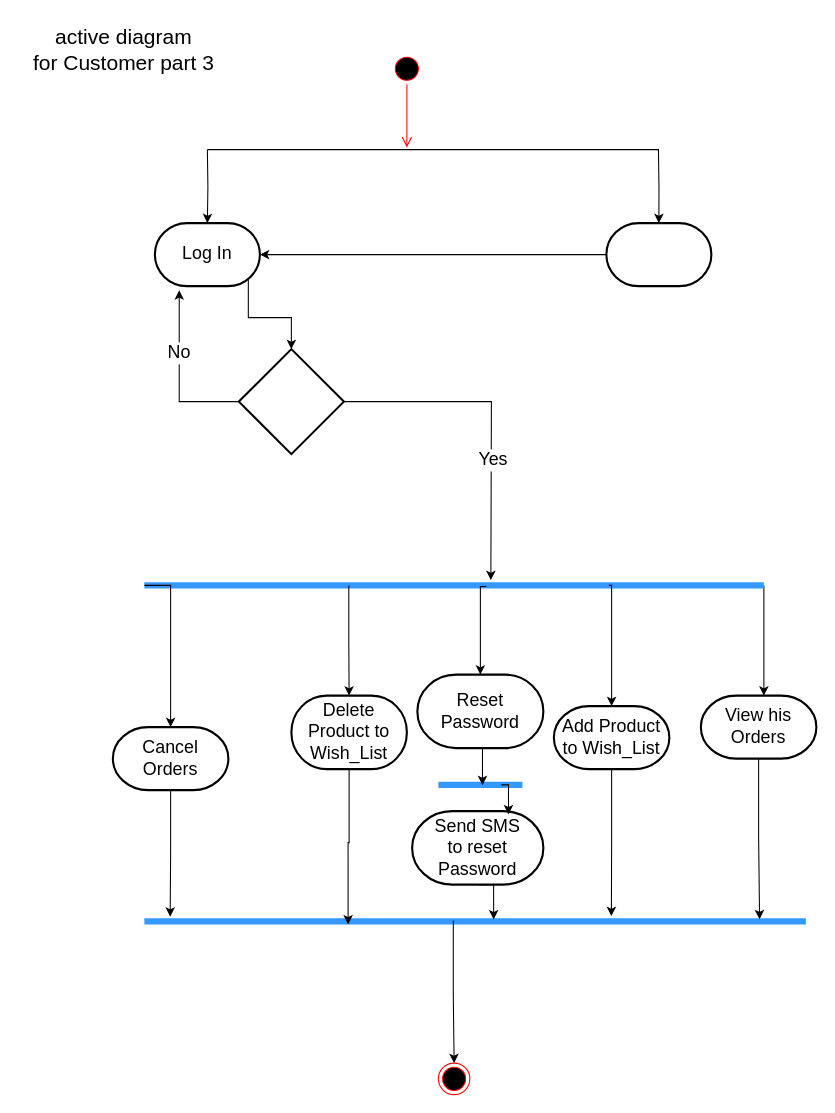
Some shapes in this 835 by 1113 pixel diagram are drawn without their labels. Here are the shapes that lost their labels. From the top down, the centre of each, then its label:
(x=658, y=254): Sign Up
(x=290, y=401): check Info
